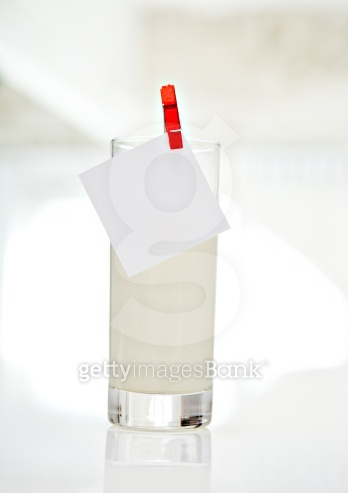glass of milk: (95, 122, 231, 441)
